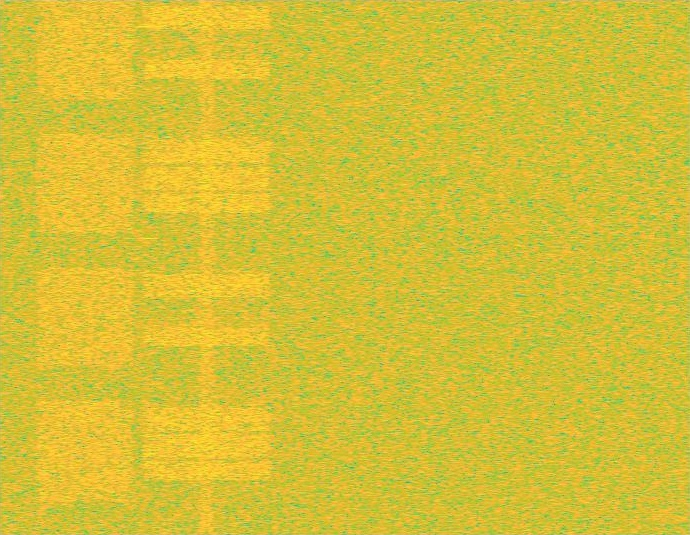5G: (34, 0, 137, 534)
DSSS: (197, 0, 216, 534)
LTE: (138, 0, 276, 534)
Radar: (141, 0, 155, 534)
